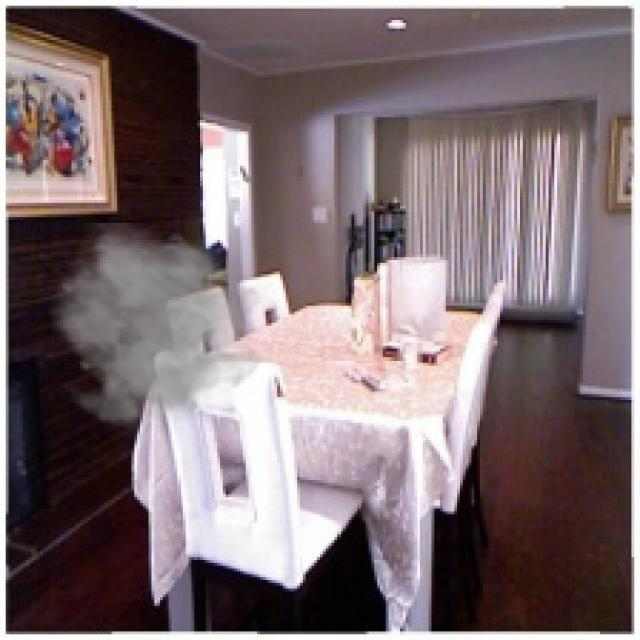smoke: (46, 223, 266, 443)
